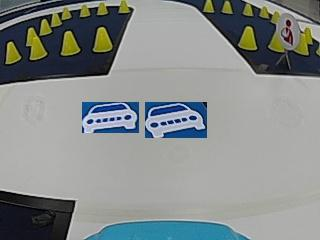cone: (60, 30, 81, 55), (28, 31, 47, 58), (238, 26, 257, 51), (93, 27, 112, 52), (268, 28, 284, 52), (5, 41, 21, 63), (295, 31, 309, 55), (39, 18, 52, 34), (117, 0, 130, 14), (96, 2, 109, 15), (221, 1, 233, 14), (51, 12, 62, 26), (79, 4, 90, 17), (203, 0, 214, 13), (242, 3, 253, 16), (258, 5, 269, 18), (270, 10, 280, 23), (61, 7, 71, 19)
patient: (280, 14, 296, 47)
